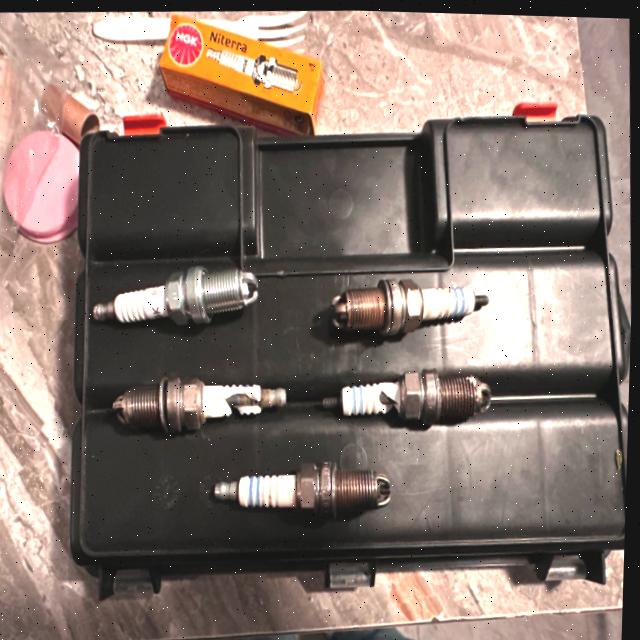damaged_spark-plug: (112, 372, 295, 434), (323, 364, 495, 424)
spark-plug: (91, 249, 265, 337), (208, 454, 398, 514), (328, 269, 492, 335)
